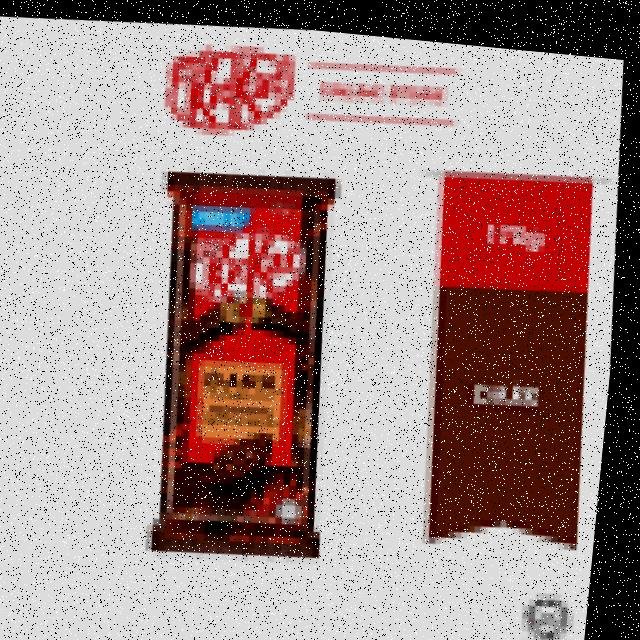kitkat: (145, 160, 357, 558)
